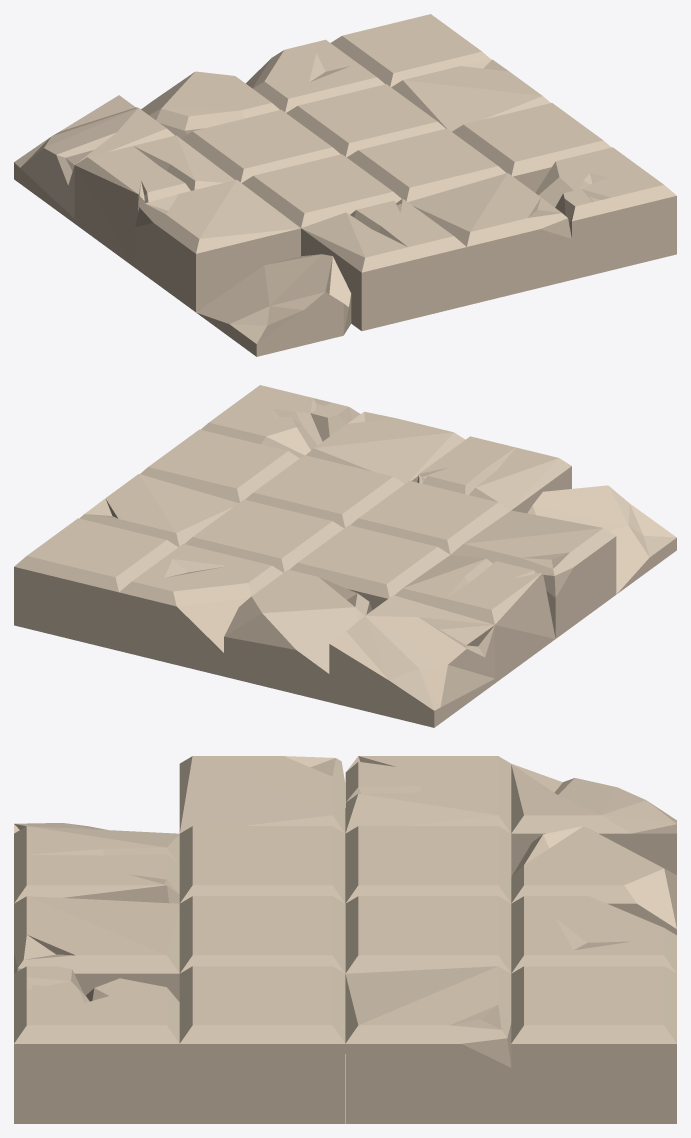
The model's file is Floor_002.fbx.
3 renders of one model, top to bottom at view 1: azimuth 30°, elevation 25°; view 2: azimuth 150°, elevation 25°; view 3: azimuth 270°, elevation 25°, orthographic. The views are drawn at different scales.
Visible parts, largest first — view 1: Floor_002; view 2: Floor_002; view 3: Floor_002.
Boxes of the visible parts, x1,y1,x2,y2 form: Floor_002: [14, 14, 676, 356]; Floor_002: [14, 385, 676, 727]; Floor_002: [14, 756, 676, 1123].
Size of the model in its own units: 3 by 0.465 by 3.
